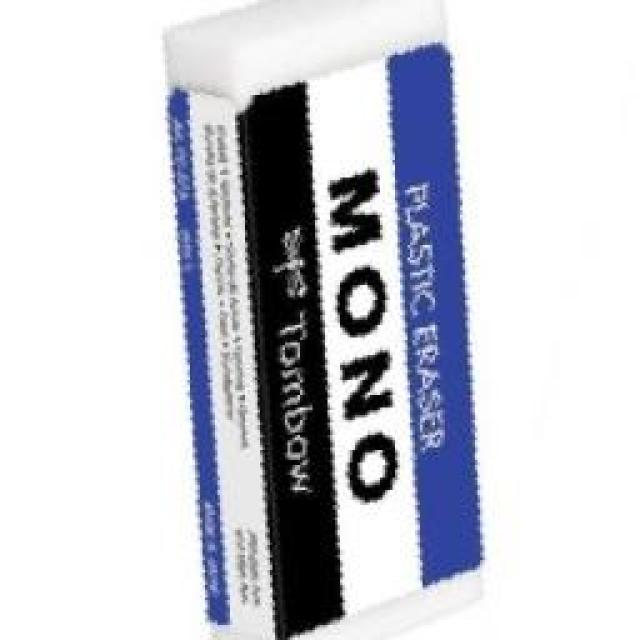Silgi: (150, 0, 488, 638)
